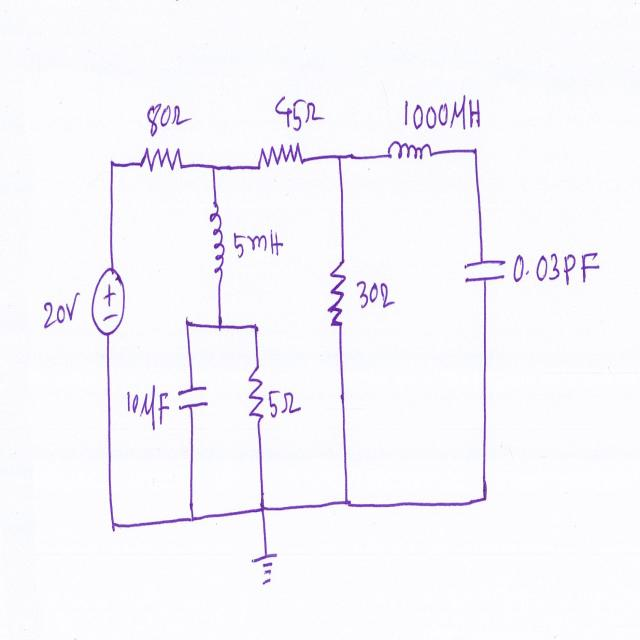capacitor: (460, 253, 509, 295), (172, 380, 211, 414)
ground: (251, 548, 283, 593)
inductor: (383, 132, 438, 168), (210, 188, 228, 282)
resistor: (254, 138, 308, 179), (135, 140, 185, 184), (326, 247, 348, 344), (244, 356, 267, 434)
voltage_source: (88, 264, 128, 344)
